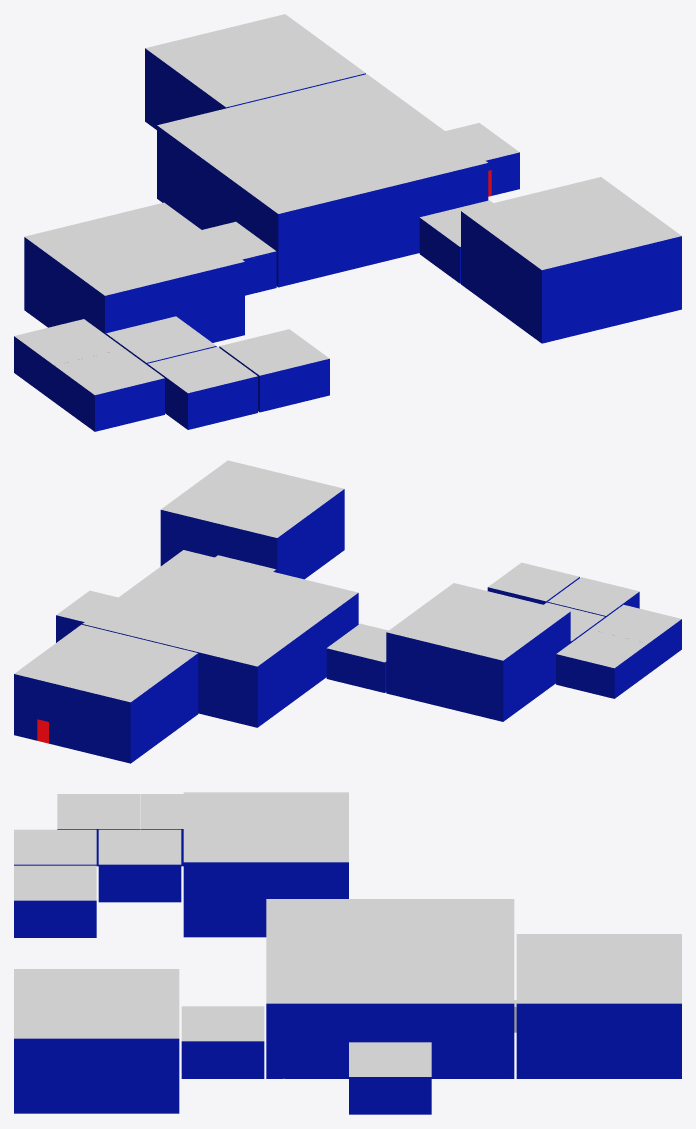
File: Level.fbx
3 views of the same model, one above another, from view 1: azimuth 30°, elevation 25°; view 2: azimuth 150°, elevation 25°; view 3: azimuth 270°, elevation 25° (orthographic). The views are drawn at different scales.
Visible parts, largest first — view 1: SchoolCentre, EndOutside, Outside, Gym, Restroom, KidsRoom, Start, Bathroom, Kitchen, Kindergarten, Warehouse, Barn; view 2: SchoolCentre, Gym, Outside, EndOutside, Bathroom, Kindergarten, Restroom, Start, KidsRoom, Warehouse, Kitchen; view 3: SchoolCentre, EndOutside, Gym, Outside, Kitchen, Barn, Start, Warehouse, Restroom, KidsRoom, Bathroom.
Part boxes in pixels (x1,y1,x2,y2): SchoolCentre: (157,74,488,287); EndOutside: (461,177,681,343); Outside: (24,202,244,342); Gym: (145,14,365,129); Restroom: (54,348,164,431); KidsRoom: (147,346,257,429); Start: (219,329,329,412); Bathroom: (14,319,123,401); Kitchen: (106,316,216,365); Kindergarten: (202,221,276,295); Warehouse: (445,123,519,196); Barn: (419,200,492,283); SchoolCentre: (82,550,358,727); Gym: (14,624,198,763); Outside: (386,583,570,721); EndOutside: (160,460,344,579); Bathroom: (556,629,648,698); Kindergarten: (326,623,388,692); Restroom: (590,604,681,673); Start: (487,562,579,604); KidsRoom: (547,577,639,617); Warehouse: (56,590,117,642); Kitchen: (544,602,605,642); SchoolCentre: (266,899,514,1078); EndOutside: (14,969,179,1113); Gym: (516,934,681,1078); Outside: (183,792,348,937); Kitchen: (98,829,181,902); Barn: (181,1006,264,1078); Start: (14,865,96,937); Warehouse: (349,1042,431,1114); Restroom: (57,794,139,866); KidsRoom: (14,829,96,865); Bathroom: (140,794,183,866).
Bounding box in the file's own units: 3240 × 401 × 3230.
